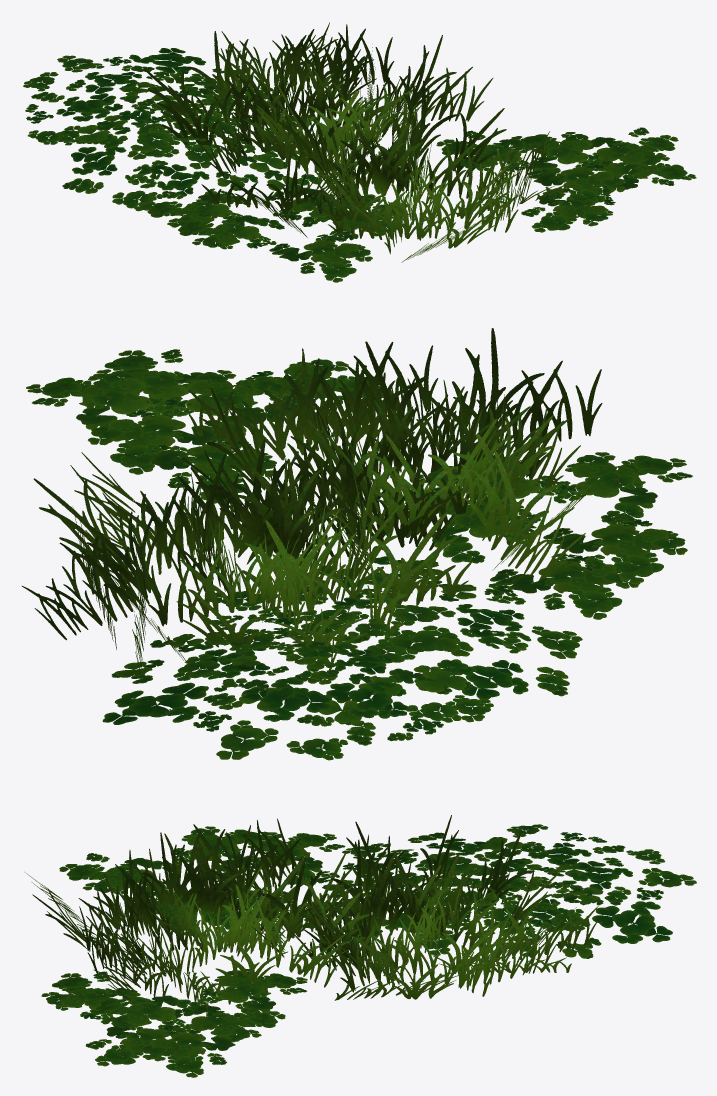
3 renders of one model, top to bottom at view 1: azimuth 30°, elevation 25°; view 2: azimuth 150°, elevation 25°; view 3: azimuth 270°, elevation 25°, orthographic. The views are drawn at different scales.
Parts seen in each view (by area): view 1: SM_BM_Weeds_01_LOD0; view 2: SM_BM_Weeds_01_LOD0; view 3: SM_BM_Weeds_01_LOD0.
Part boxes in pixels (left/top/right/bottom): SM_BM_Weeds_01_LOD0: left=23, top=22, right=696, bottom=282; SM_BM_Weeds_01_LOD0: left=22, top=328, right=692, bottom=760; SM_BM_Weeds_01_LOD0: left=25, top=815, right=696, bottom=1077.
Size of the model in its own units: 1.85 by 0.3091 by 2.04.
Materials: 2 (2 with a texture image).
